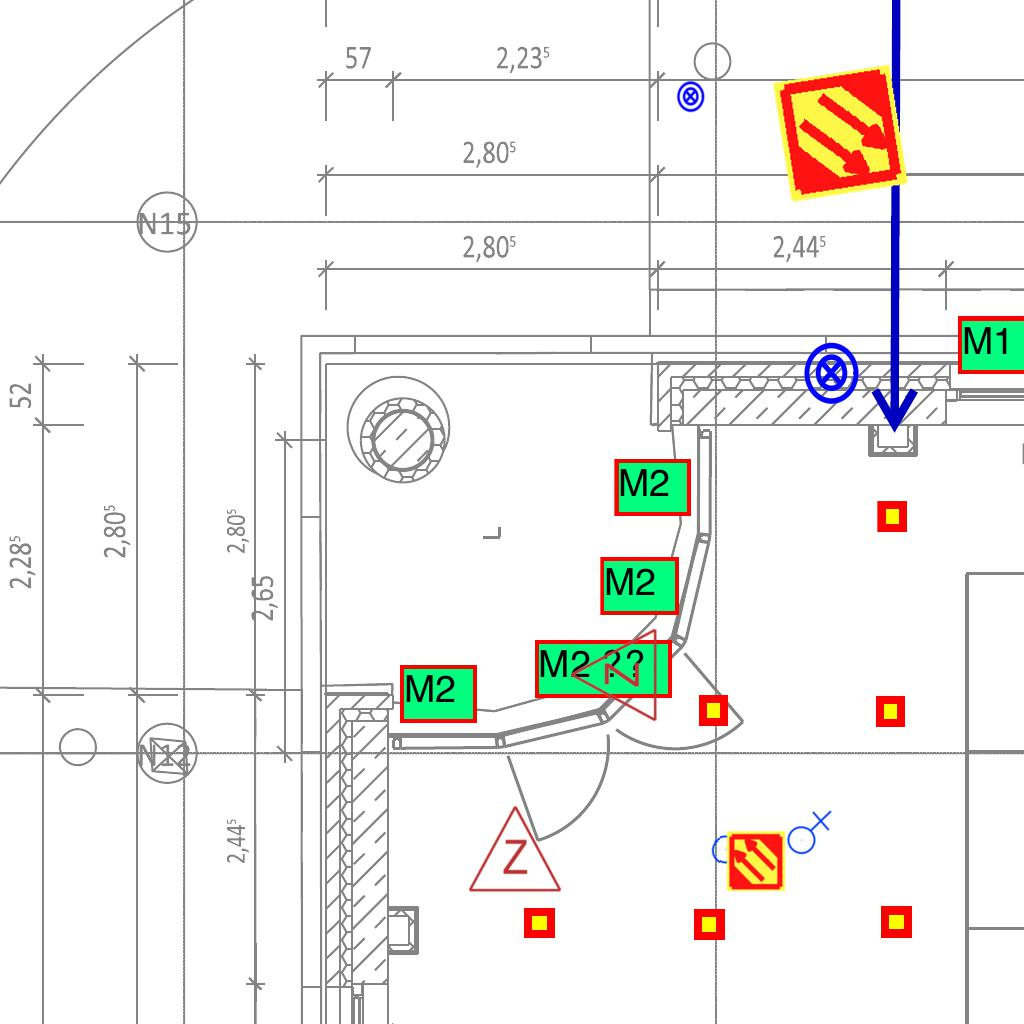ASR_Ansaugrauchmelder: (768, 61, 913, 206), (725, 830, 787, 892)
Elektroanschluss_allgemein_230V_Geraeteanschlussdose_230V: (710, 830, 759, 881), (783, 808, 832, 855)
Taster_beleuchtet: (798, 340, 864, 406), (674, 80, 707, 113)
Zimmersignalleuchte: (465, 799, 563, 899), (564, 627, 664, 725)
